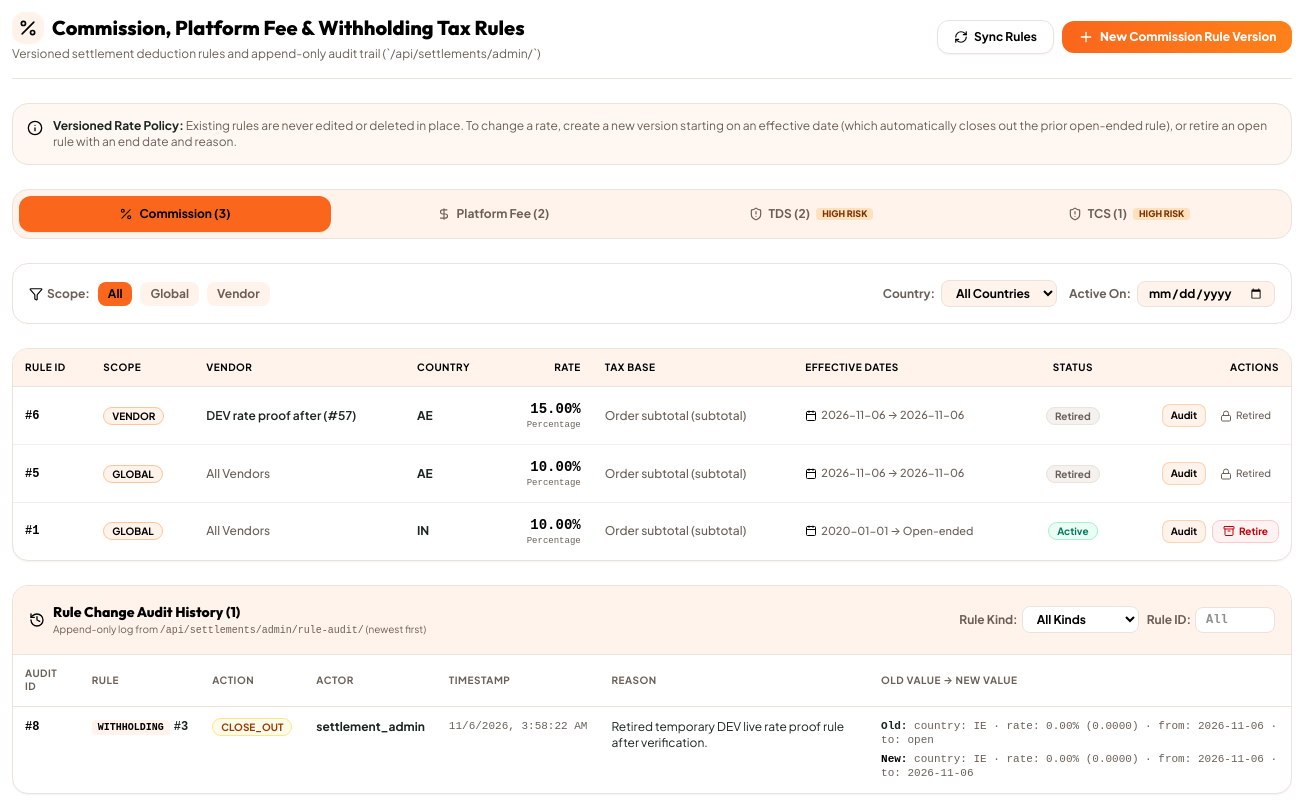
Test: CommissionModule — Real Backend Integration › 1. Renders all four tabs with real counts, active/retired statuses, converted withholding rates, and audit history
Expected: the button with test id "tab-commission" reads "Commission (3)", x1=19 y1=196 x2=331 y2=232
Expected: the button with test id "tab-tds" shows "TDS (2)", x1=655 y1=196 x2=967 y2=232
# Switch to Platform Fee tab
Click the button with test id "tab-platform_fee": [493, 214] box x1=337 y1=196 x2=649 y2=232
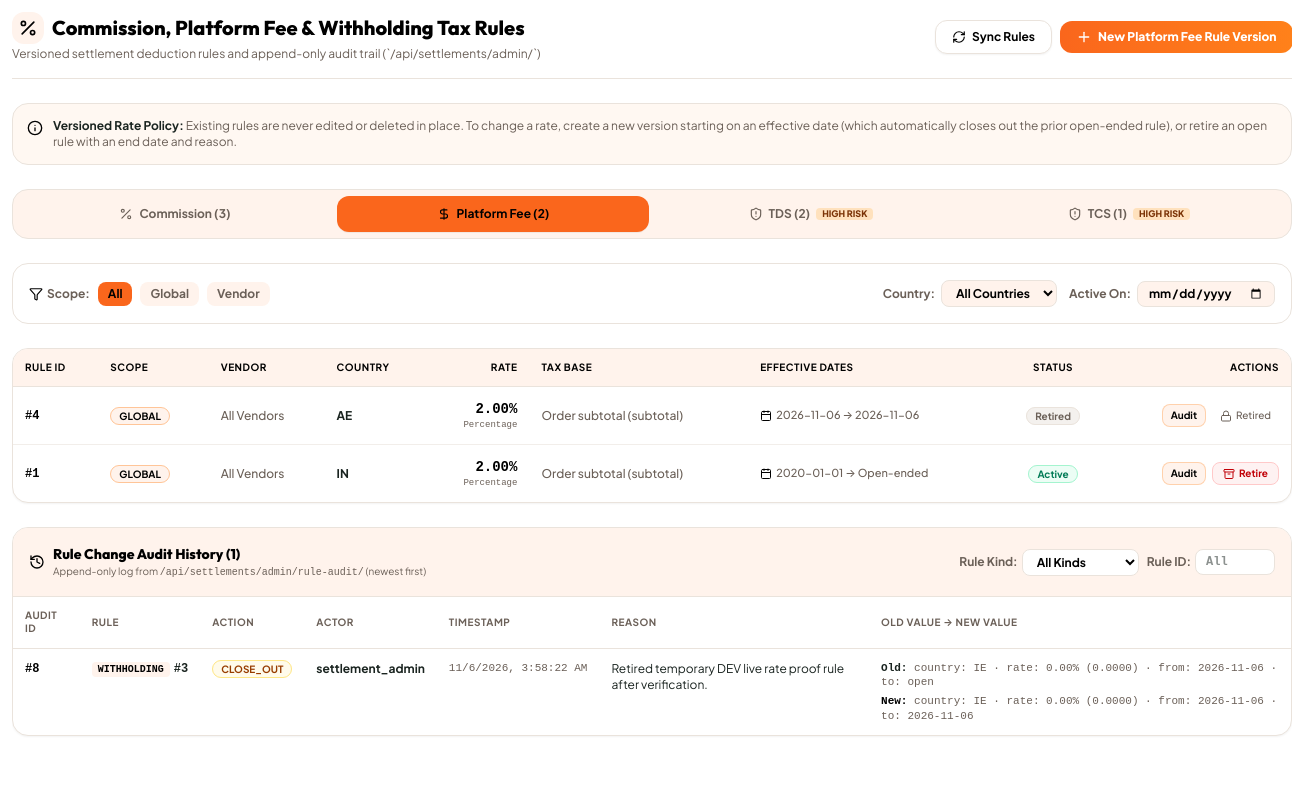
Expected: the text with test id "rule-status-4" reads "Retired", x1=1035 y1=410 x2=1071 y2=422
Expected: the text with test id "rule-status-1" reads "Active", x1=1037 y1=468 x2=1069 y2=480
Click the button with test id "tab-tds": [811, 214] box x1=655 y1=196 x2=967 y2=232
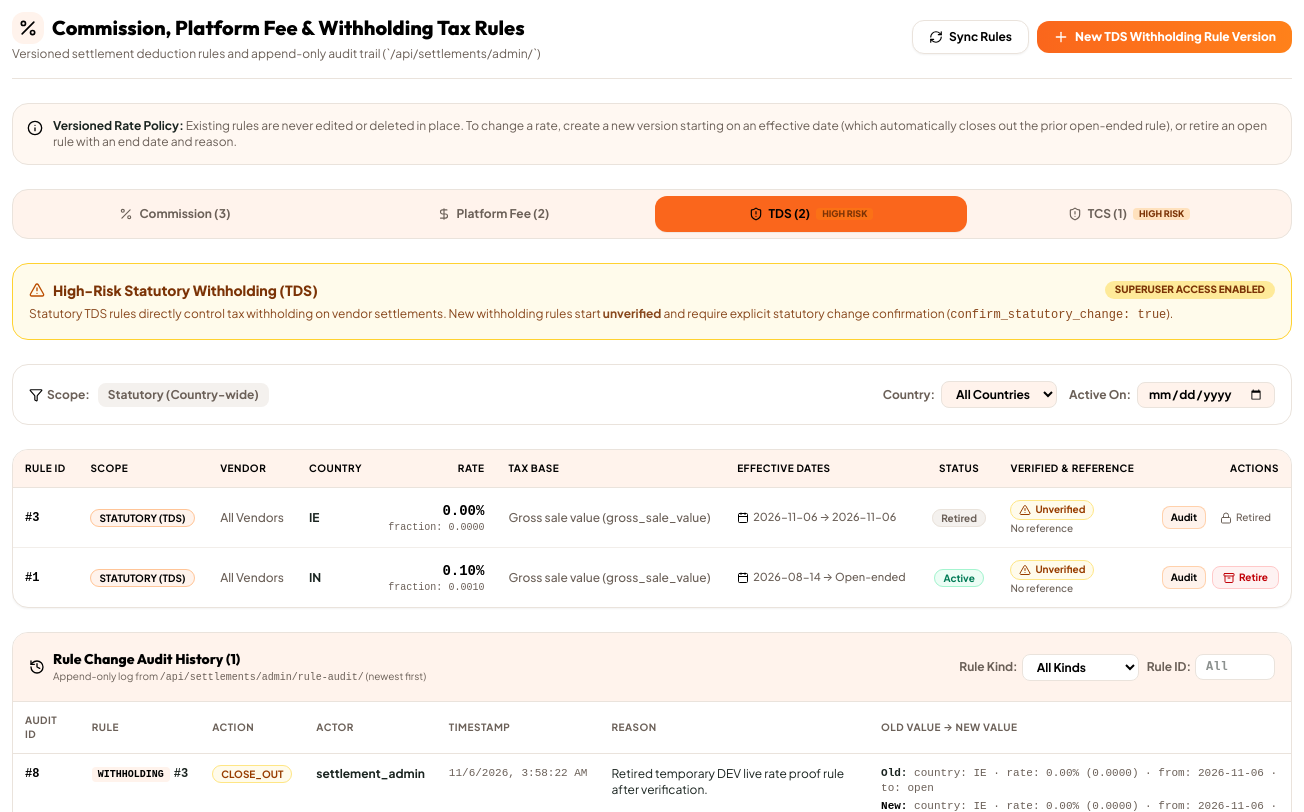
Expected: the text with test id "rule-status-3" reads "Retired", x1=941 y1=512 x2=977 y2=524
Now the text "0.10%" is shown, box x1=442 y1=563 x2=484 y2=579
Now the 1st text "Unverified" is shown, box x1=1010 y1=500 x2=1094 y2=520
Click the button with test id "tab-tcs": [1129, 214] box x1=973 y1=196 x2=1285 y2=232
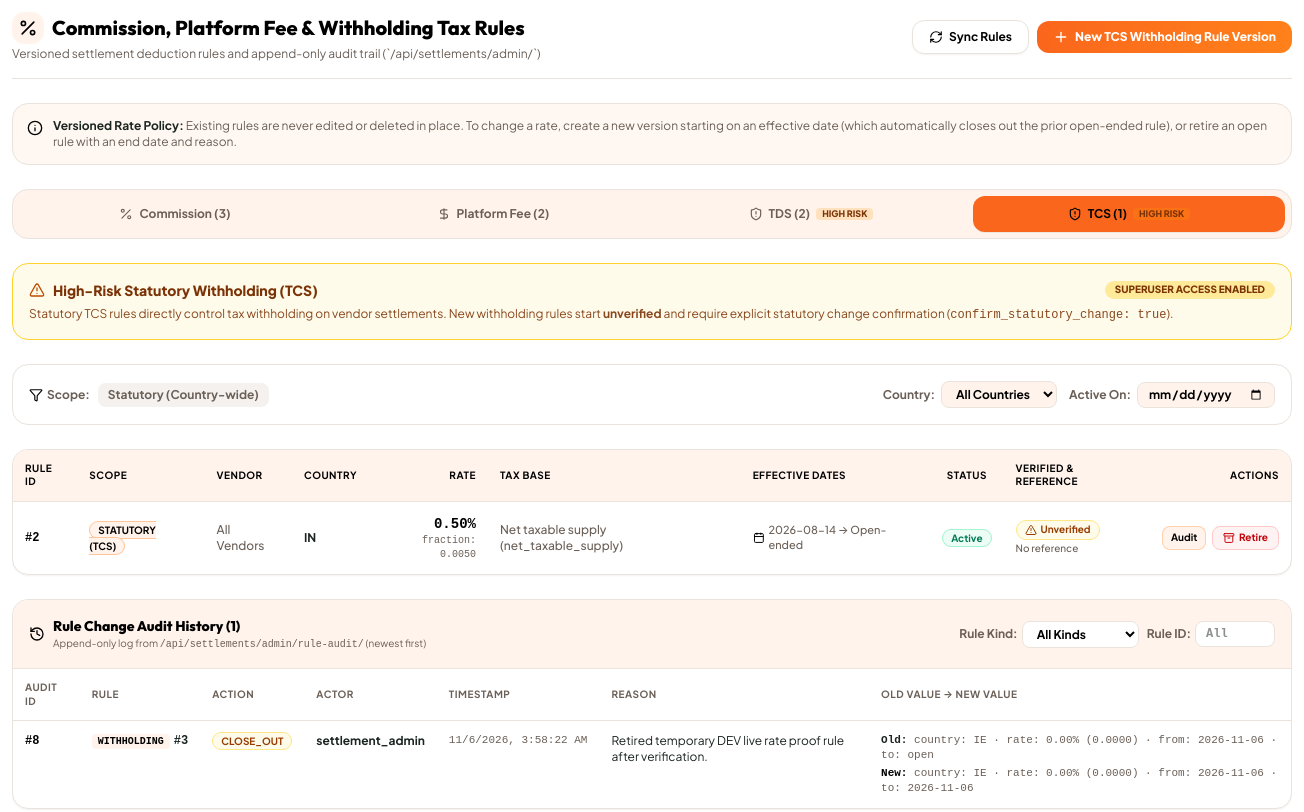
Expected: the text with test id "rule-status-2" reads "Active", x1=951 y1=532 x2=982 y2=544
Now the text "0.50%" is shown, box x1=434 y1=516 x2=476 y2=532
